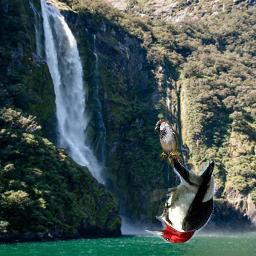Sparrow: (155, 120, 184, 165)
Woodpecker: (145, 159, 216, 244)
